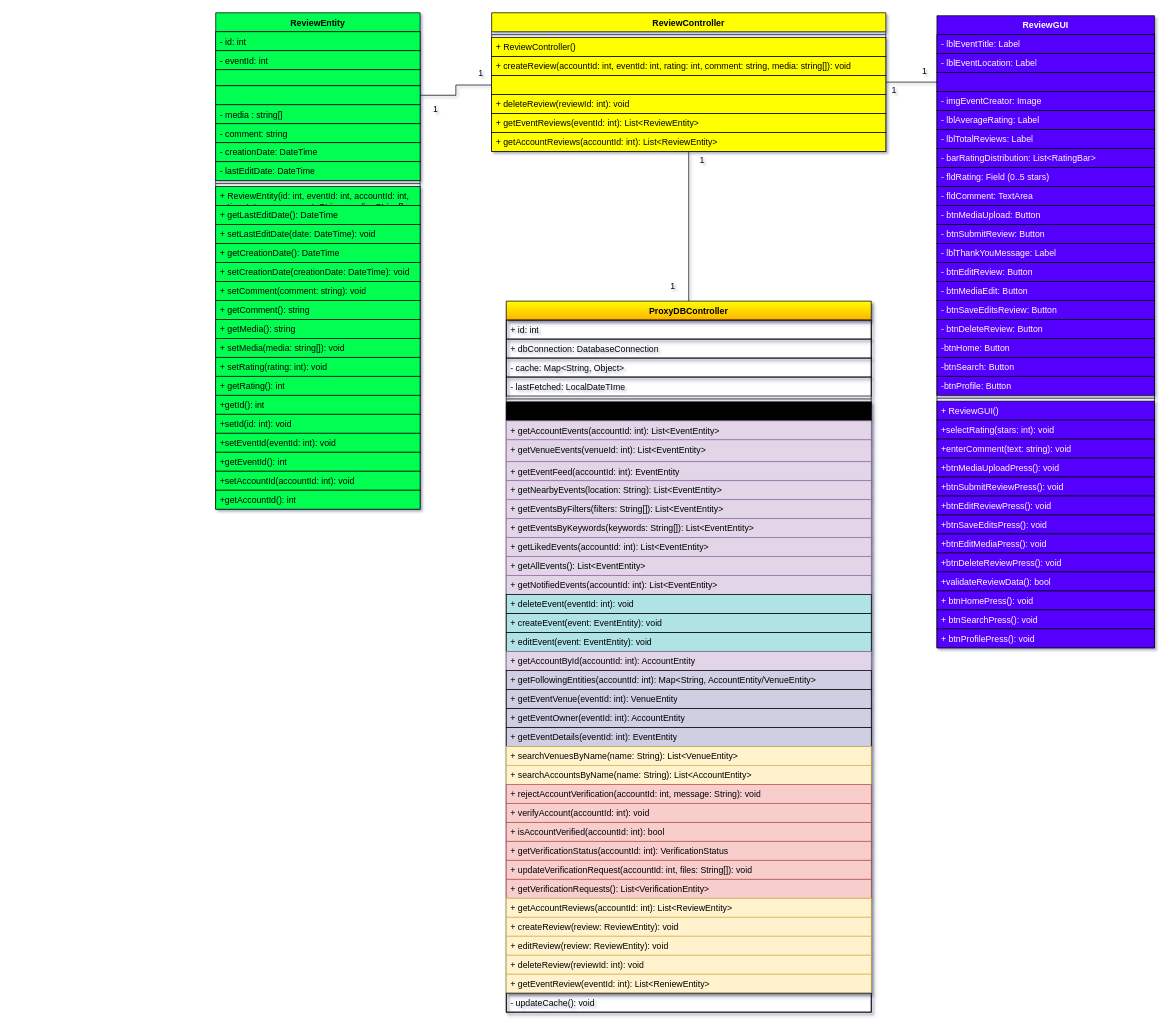
Some shapes in this 1172 by 1034 pixel diagram are drawn without their labels. Each missing label, with the centre of its shape:
"+ editReview(reviewId: int, rating: int, comment: string, media: string[]): void" belongs at (x=688, y=85).
"- accountid : int" belongs at (x=317, y=77).
"- lblEventDateTime: Label" belongs at (x=1045, y=82).
"- rating: int (1..5)" belongs at (x=317, y=95).
